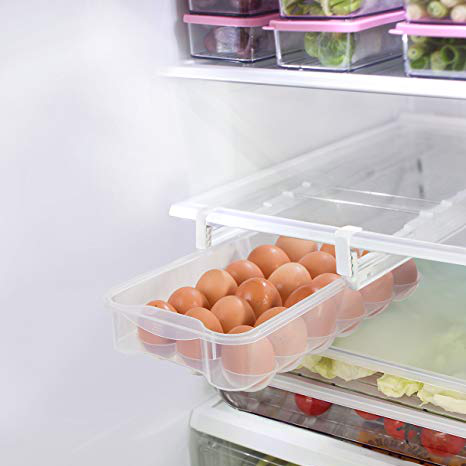egg: (135, 226, 419, 386)
